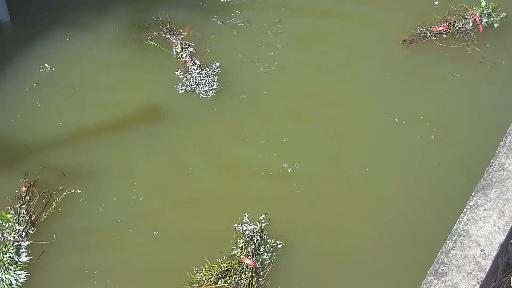twig: (0, 171, 86, 288), (137, 11, 228, 104), (187, 216, 285, 288), (402, 0, 512, 54)
